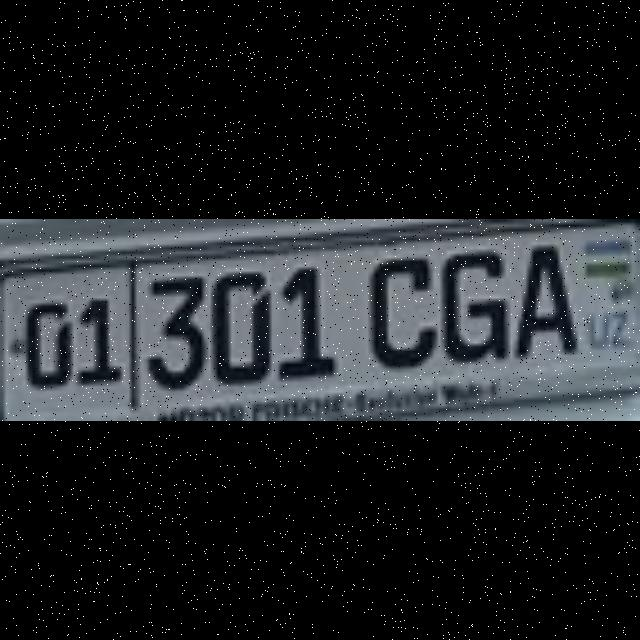0: (208, 268, 266, 382), (18, 296, 64, 386)
1: (270, 264, 330, 376), (72, 295, 118, 381)
3: (144, 272, 203, 386)
A: (510, 242, 572, 354)
C: (365, 255, 433, 368)
G: (437, 245, 505, 358)
